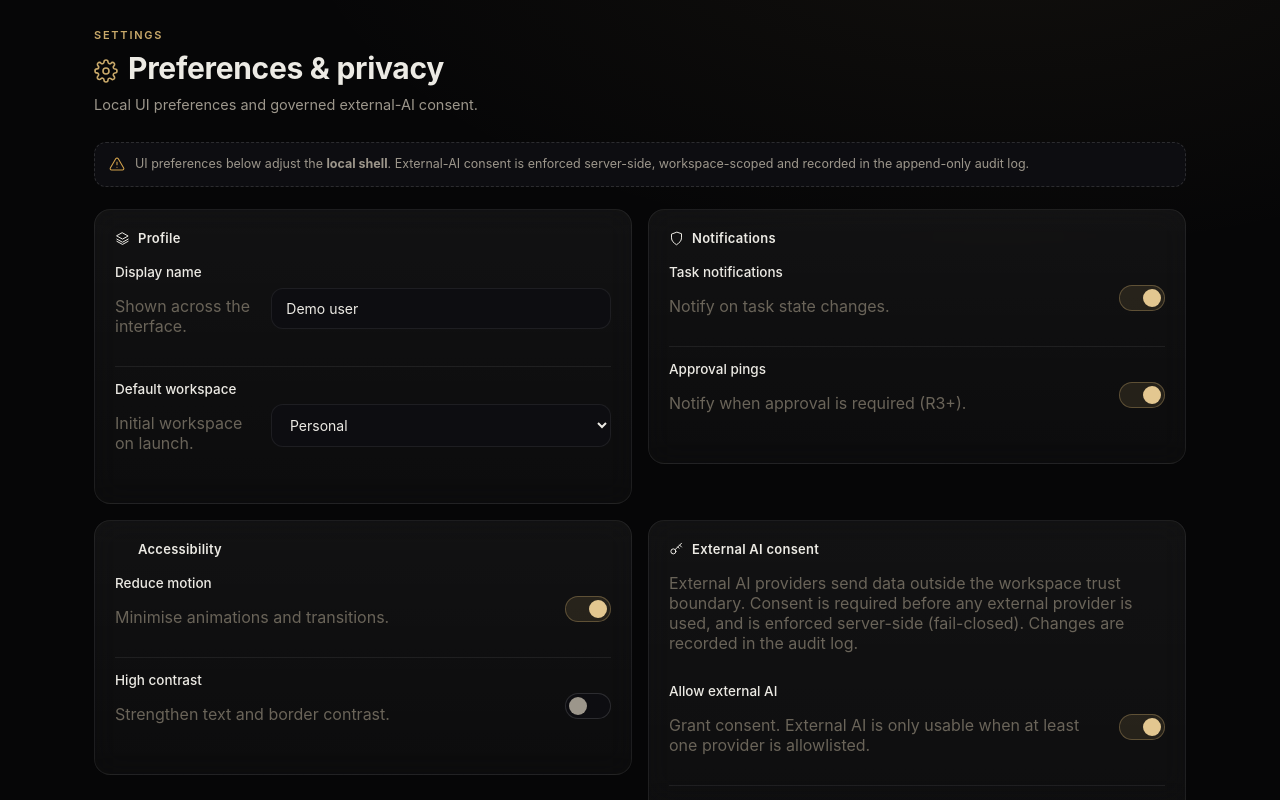
Test: CORE-03G.2 — Finding 3: workspace-switching consent refresh › loads the selected workspace's own consent after switching
The image size is (1280, 800).
Switch to professional (ws2): a fresh load for ws2 must occur.
Step 1. Select "Professional" in the dropdown → (441, 425), box [271,404,611,447]
(page scrolled)
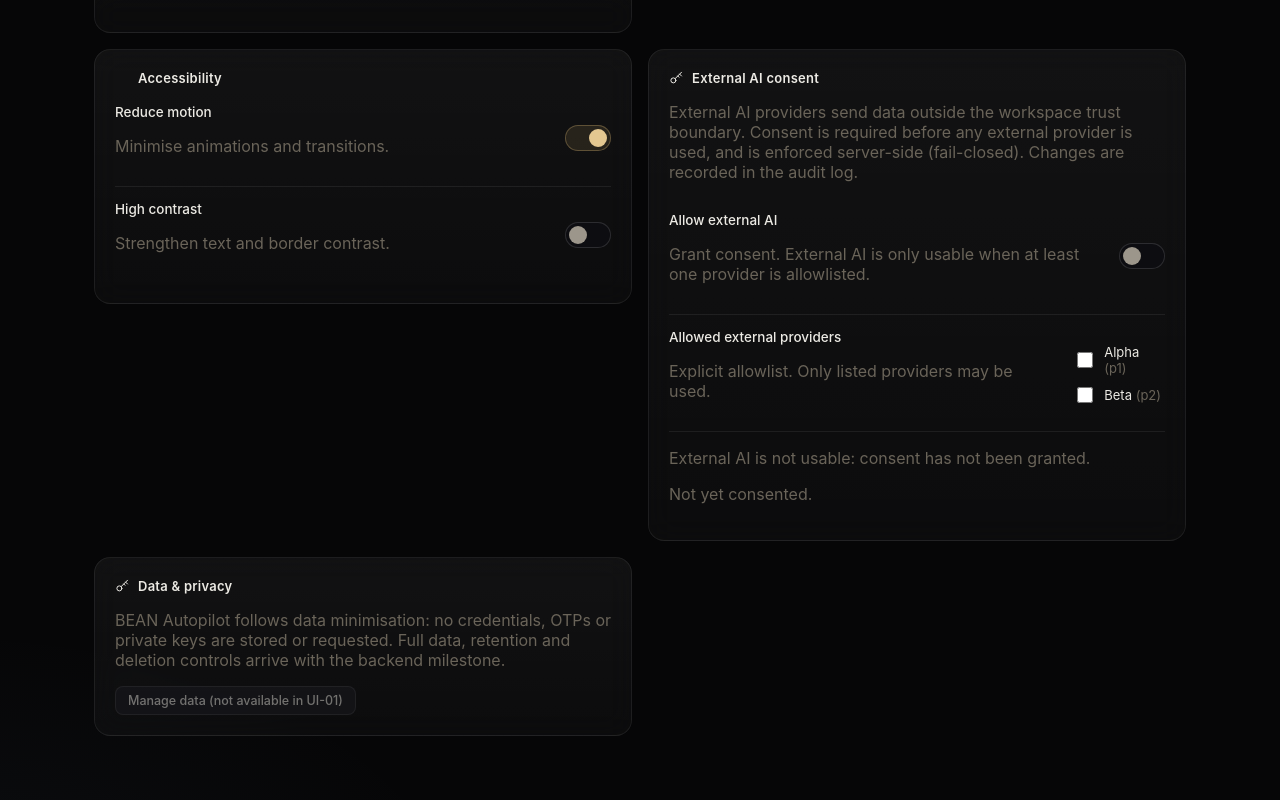
Check: the text "External AI is not usable: consent has not been granted." is shown, box [669,448,1090,468]
